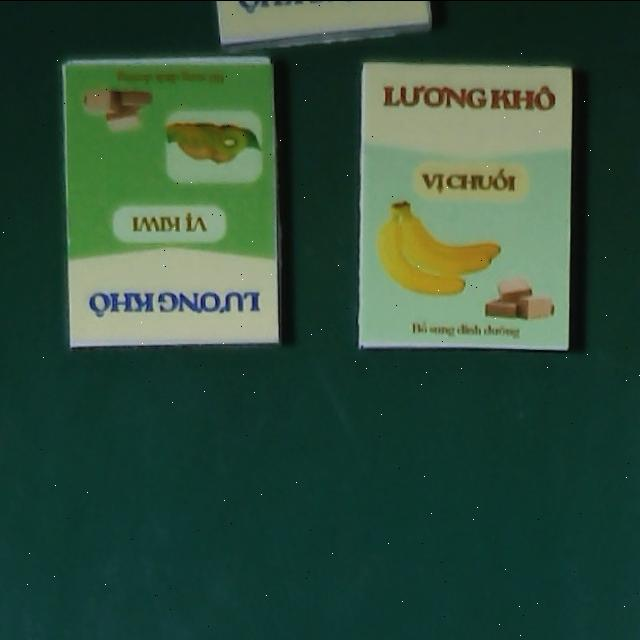chuoi: (358, 61, 571, 350)
kiwi: (63, 54, 280, 346)
